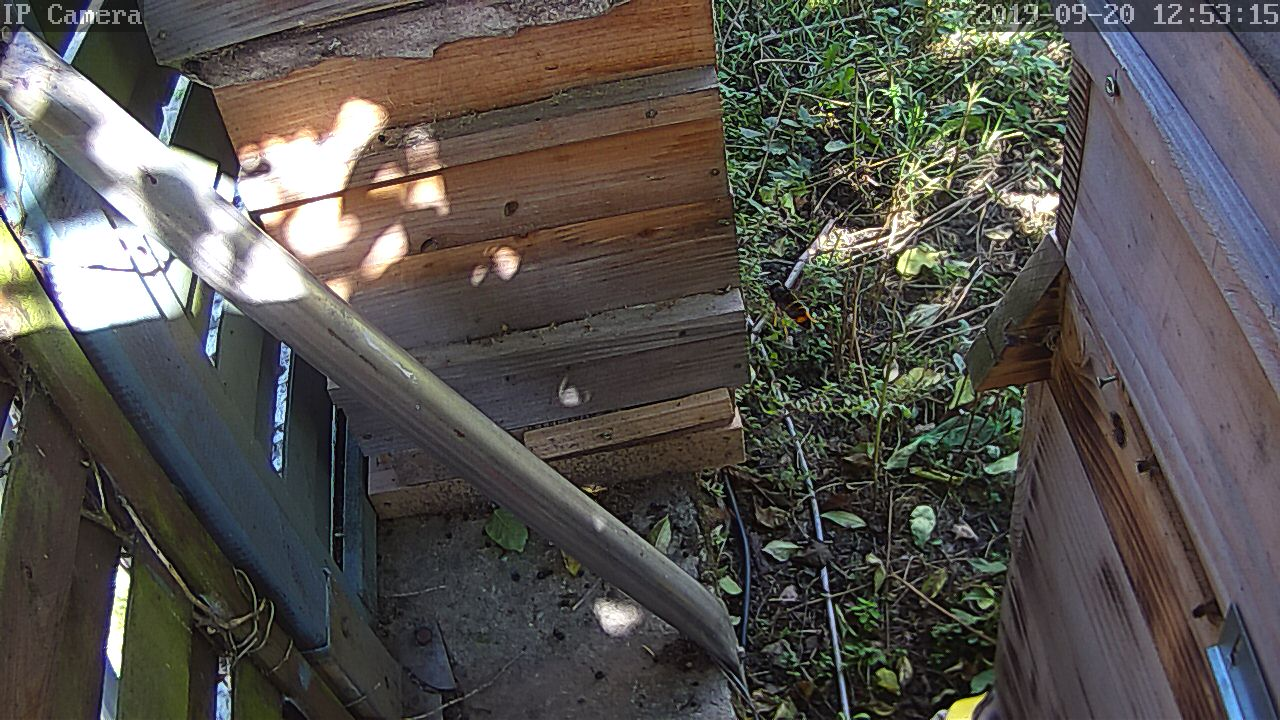bee: (1183, 592, 1227, 630), (1130, 452, 1166, 486)
hornet: (759, 280, 816, 330)
